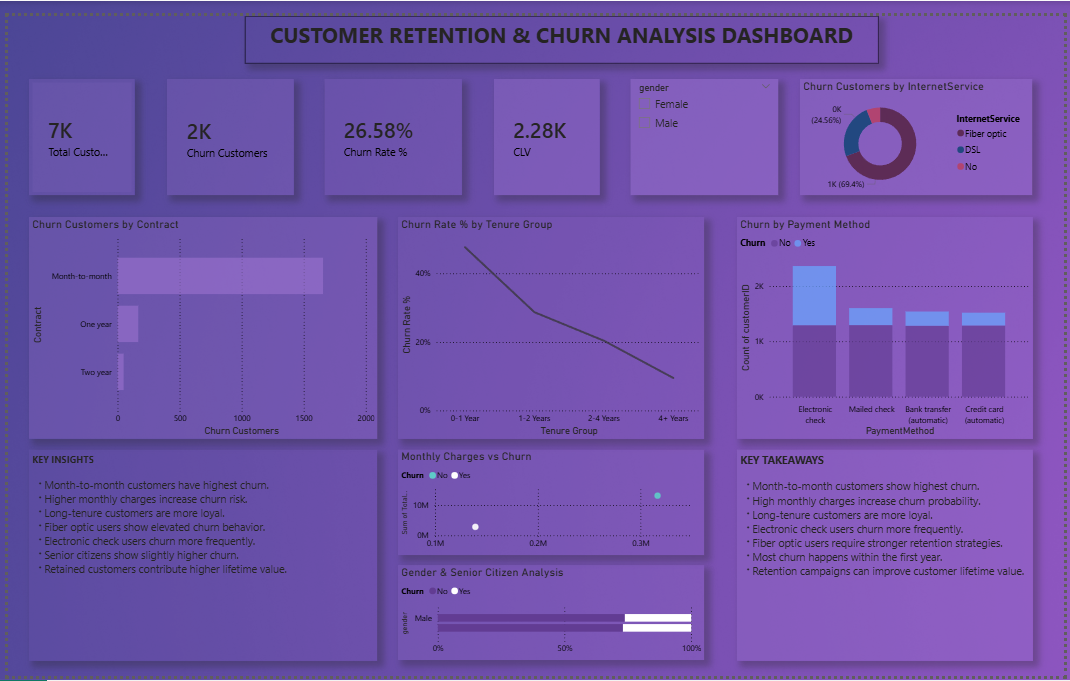

What the dashboard file says about the page in this screenshot:
{"tool":"powerbi","page":{"name":"Page 1","canvas":[1600,1000],"ordinal":0},"visuals":[{"type":"cardVisual","fields":{"Data":["WA_Fn-UseC_-Telco-Customer-Churn.Total Customers"]},"box":[32,96,160,176],"z":0},{"type":"cardVisual","fields":{"Data":["WA_Fn-UseC_-Telco-Customer-Churn.Churn Customers"]},"box":[240,96,192,176],"z":1000},{"type":"textbox","box":[360,0,960,72],"z":2000},{"type":"cardVisual","fields":{"Data":["WA_Fn-UseC_-Telco-Customer-Churn.Churn Rate %"]},"box":[480,96,208,176],"z":3000},{"type":"cardVisual","fields":{"Data":["WA_Fn-UseC_-Telco-Customer-Churn.CLV"]},"box":[736,96,160,176],"z":6000},{"type":"clusteredBarChart","fields":{"Category":["WA_Fn-UseC_-Telco-Customer-Churn.Contract"],"Y":["WA_Fn-UseC_-Telco-Customer-Churn.Churn Customers"]},"box":[32,304,464,336],"z":7000},{"type":"donutChart","fields":{"Category":["WA_Fn-UseC_-Telco-Customer-Churn.InternetService"],"Y":["WA_Fn-UseC_-Telco-Customer-Churn.Churn Customers"]},"box":[1200,96,352,176],"z":8000},{"type":"columnChart","title":"Churn by Payment Method","fields":{"Category":["WA_Fn-UseC_-Telco-Customer-Churn.PaymentMethod"],"Y":["CountNonNull(WA_Fn-UseC_-Telco-Customer-Churn.customerID)"],"Series":["WA_Fn-UseC_-Telco-Customer-Churn.Churn"]},"box":[1104,304,416,336],"z":9000},{"type":"lineChart","fields":{"Category":["WA_Fn-UseC_-Telco-Customer-Churn.Tenure Group"],"Y":["WA_Fn-UseC_-Telco-Customer-Churn.Churn Rate %"]},"box":[592,304,448,336],"z":10000},{"type":"scatterChart","title":"Monthly Charges vs Churn","fields":{"Series":["WA_Fn-UseC_-Telco-Customer-Churn.Churn"],"X":["Sum(WA_Fn-UseC_-Telco-Customer-Churn.MonthlyCharges)"],"Y":["Sum(WA_Fn-UseC_-Telco-Customer-Churn.TotalCharges)"]},"box":[608,656,448,160],"z":11000},{"type":"hundredPercentStackedBarChart","title":"Gender & Senior Citizen Analysis","fields":{"Series":["WA_Fn-UseC_-Telco-Customer-Churn.Churn"],"Category":["WA_Fn-UseC_-Telco-Customer-Churn.gender"],"Y":["CountNonNull(WA_Fn-UseC_-Telco-Customer-Churn.gender)"]},"box":[608,832,448,144],"z":12000},{"type":"slicer","fields":{"Values":["WA_Fn-UseC_-Telco-Customer-Churn.gender"]},"box":[944,96,224,176],"z":14000},{"type":"textbox","box":[32,656,560,320],"z":14001},{"type":"textbox","box":[1104,656,416,320],"z":14002}]}

Visuals, with their boxes in screenshot pixels (x1, y1, x2, y2), scaled from the page's 1600x1000 canvas onto the 1070x681 screenshot:
cardVisual - WA_Fn-UseC_-Telco-Customer-Churn.Total Customers: BBox(21, 65, 128, 185)
cardVisual - WA_Fn-UseC_-Telco-Customer-Churn.Churn Customers: BBox(160, 65, 289, 185)
textbox: BBox(241, 0, 883, 49)
cardVisual - WA_Fn-UseC_-Telco-Customer-Churn.Churn Rate %: BBox(321, 65, 460, 185)
cardVisual - WA_Fn-UseC_-Telco-Customer-Churn.CLV: BBox(492, 65, 599, 185)
clusteredBarChart - WA_Fn-UseC_-Telco-Customer-Churn.Contract x WA_Fn-UseC_-Telco-Customer-Churn.Churn Customers: BBox(21, 207, 332, 436)
donutChart - WA_Fn-UseC_-Telco-Customer-Churn.InternetService x WA_Fn-UseC_-Telco-Customer-Churn.Churn Customers: BBox(802, 65, 1038, 185)
"Churn by Payment Method" columnChart: BBox(738, 207, 1016, 436)
lineChart - WA_Fn-UseC_-Telco-Customer-Churn.Tenure Group x WA_Fn-UseC_-Telco-Customer-Churn.Churn Rate %: BBox(396, 207, 696, 436)
"Monthly Charges vs Churn" scatterChart: BBox(407, 447, 706, 556)
"Gender & Senior Citizen Analysis" hundredPercentStackedBarChart: BBox(407, 567, 706, 665)
slicer - WA_Fn-UseC_-Telco-Customer-Churn.gender: BBox(631, 65, 781, 185)
textbox: BBox(21, 447, 396, 665)
textbox: BBox(738, 447, 1016, 665)
